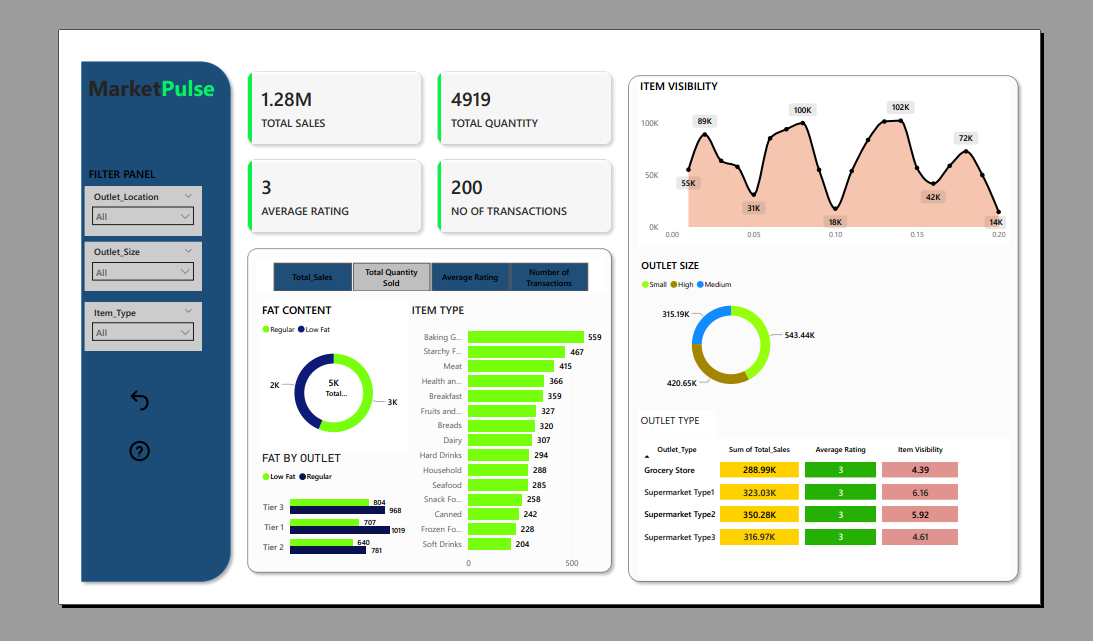

The dashboard page shown, as its layout file describes it:
{"tool":"powerbi","page":{"name":"Page 1","canvas":[1400,800],"ordinal":0},"visuals":[{"type":"shape","box":[245.8,290.8,554.2,494.8],"z":0},{"type":"shape","box":[0,15,238.3,785],"z":1000},{"type":"textbox","box":[14.5,33.7,237.8,59.4],"z":2000},{"type":"cardVisual","fields":{"Data":["Sum(Sales_Data.Total_Sales)","Sales_Data.Total Quantity Sold","Sales_Data.Average Rating","Sales_Data.Number of Transactions"]},"box":[237.8,20.9,570.3,269.9],"z":3000},{"type":"donutChart","title":"FAT CONTENT","fields":{"Y":["Sales_Data.Total Quantity Sold"],"Category":["Sales_Data.Fat_Content"]},"box":[271.5,377.5,220.1,220.1],"z":4000},{"type":"slicer","fields":{"Values":["Metric.Metric"]},"box":[266.7,313.3,514.1,48.2],"z":5000},{"type":"cardVisual","fields":{"Data":["Sales_Data.Total Quantity Sold"]},"box":[337.3,469.1,90,69.1],"z":6000},{"type":"clusteredBarChart","title":"FAT BY OUTLET","fields":{"Y":["Sales_Data.Total Quantity Sold"],"Category":["Sales_Data.Outlet_Location"],"Series":["Sales_Data.Fat_Content"]},"box":[271.5,597.6,220.1,170.3],"z":7000},{"type":"barChart","title":"ITEM TYPE","fields":{"Y":["Sales_Data.Total Quantity Sold"],"Category":["Sales_Data.Item_Type"]},"box":[491.6,377.5,300.4,404.8],"z":8000},{"type":"shape","box":[808,35.3,592.8,764.7],"z":9000},{"type":"lineChart","title":"ITEM VISIBILITY","fields":{"Y":["Sum(Sales_Data.Total_Sales)"],"Category":["Sales_Data.Item_Visibility"]},"box":[828.9,46.6,549.4,249],"z":10000},{"type":"donutChart","title":"OUTLET SIZE","fields":{"Y":["Sum(Sales_Data.Total_Sales)"],"Category":["Sales_Data.Outlet_Size"]},"box":[830.5,313.3,274.7,208.8],"z":11000},{"type":"pivotTable","fields":{"Rows":["Sales_Data.Outlet_Type"],"Values":["Sum(Sales_Data.Total_Sales)","Sales_Data.Average Rating","Sum(Sales_Data.Item_Visibility)"]},"box":[830,580,548.3,203.3],"z":12000},{"type":"slicer","fields":{"Values":["Sales_Data.Outlet_Location"]},"box":[14.5,207.2,171.9,72.3],"z":13000},{"type":"slicer","fields":{"Values":["Sales_Data.Outlet_Size"]},"box":[14.5,289.2,171.9,72.3],"z":14000},{"type":"slicer","fields":{"Values":["Sales_Data.Item_Type"]},"box":[14.5,377.5,171.9,72.3],"z":15000},{"type":"actionButton","box":[75,503.3,50,40],"z":16000},{"type":"actionButton","box":[75,578.3,50,40],"z":17000},{"type":"textbox","box":[830,536.7,115,41.7],"z":17001},{"type":"textbox","box":[15,171.7,118.3,38.3],"z":17002}]}

Visuals, with their boxes in screenshot pixels (x1, y1, x2, y2), scaled from the page's 1400x800 canvas onto the 1093x641 screenshot:
shape: [left=192, top=233, right=625, bottom=629]
shape: [left=0, top=12, right=186, bottom=640]
textbox: [left=11, top=27, right=197, bottom=75]
cardVisual - Sum(Sales_Data.Total_Sales) x Sales_Data.Total Quantity Sold: [left=186, top=17, right=631, bottom=233]
"FAT CONTENT" donutChart: [left=212, top=302, right=384, bottom=479]
slicer - Metric.Metric: [left=208, top=251, right=610, bottom=290]
cardVisual - Sales_Data.Total Quantity Sold: [left=263, top=376, right=334, bottom=431]
"FAT BY OUTLET" clusteredBarChart: [left=212, top=479, right=384, bottom=615]
"ITEM TYPE" barChart: [left=384, top=302, right=618, bottom=627]
shape: [left=631, top=28, right=1092, bottom=640]
"ITEM VISIBILITY" lineChart: [left=647, top=37, right=1076, bottom=237]
"OUTLET SIZE" donutChart: [left=648, top=251, right=863, bottom=418]
pivotTable - Sales_Data.Outlet_Type x Sum(Sales_Data.Total_Sales): [left=648, top=465, right=1076, bottom=628]
slicer - Sales_Data.Outlet_Location: [left=11, top=166, right=146, bottom=224]
slicer - Sales_Data.Outlet_Size: [left=11, top=232, right=146, bottom=290]
slicer - Sales_Data.Item_Type: [left=11, top=302, right=146, bottom=360]
actionButton: [left=59, top=403, right=98, bottom=435]
actionButton: [left=59, top=463, right=98, bottom=495]
textbox: [left=648, top=430, right=738, bottom=463]
textbox: [left=12, top=138, right=104, bottom=168]
